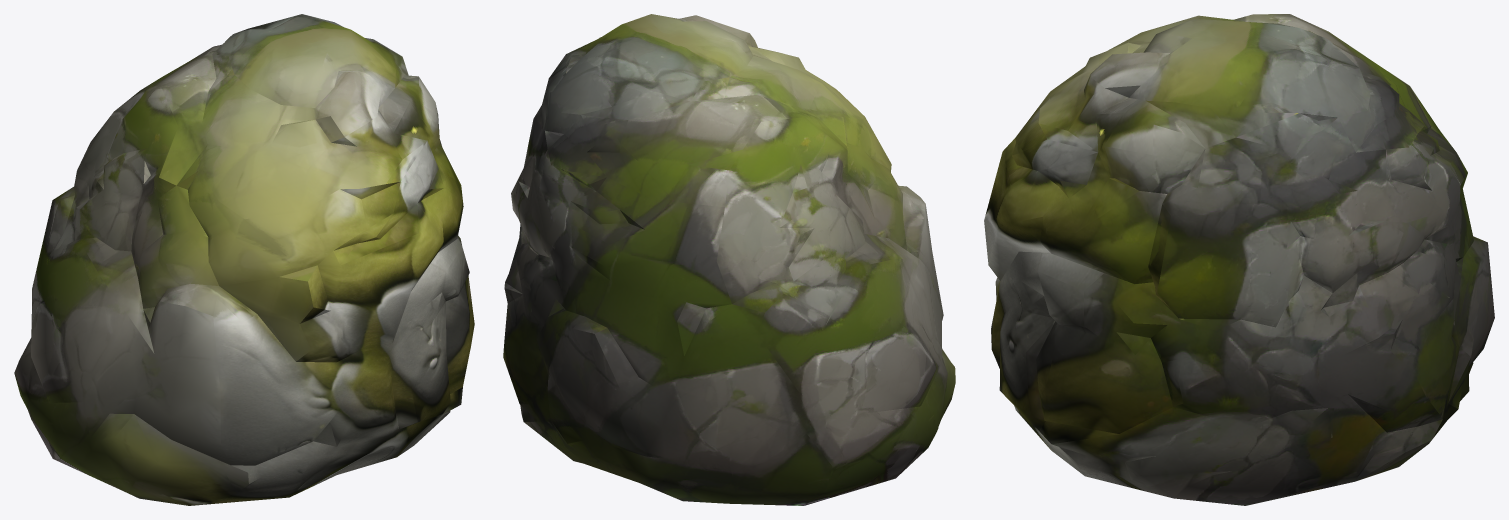
The model's file is rock_3.glb.
3 renders of one model, left to right at view 1: azimuth 30°, elevation 25°; view 2: azimuth 150°, elevation 25°; view 3: azimuth 270°, elevation 25°, orthographic. The views are drawn at different scales.
Visible parts, largest first — view 1: Body; view 2: Body; view 3: Body.
Boxes of the visible parts, <box> form: Body: <box>14,14,474,505</box>; Body: <box>503,14,955,505</box>; Body: <box>984,14,1494,505</box>.
Size of the model in its own units: 0.8493 by 0.8 by 0.8488.
1 material, 1 textured.
